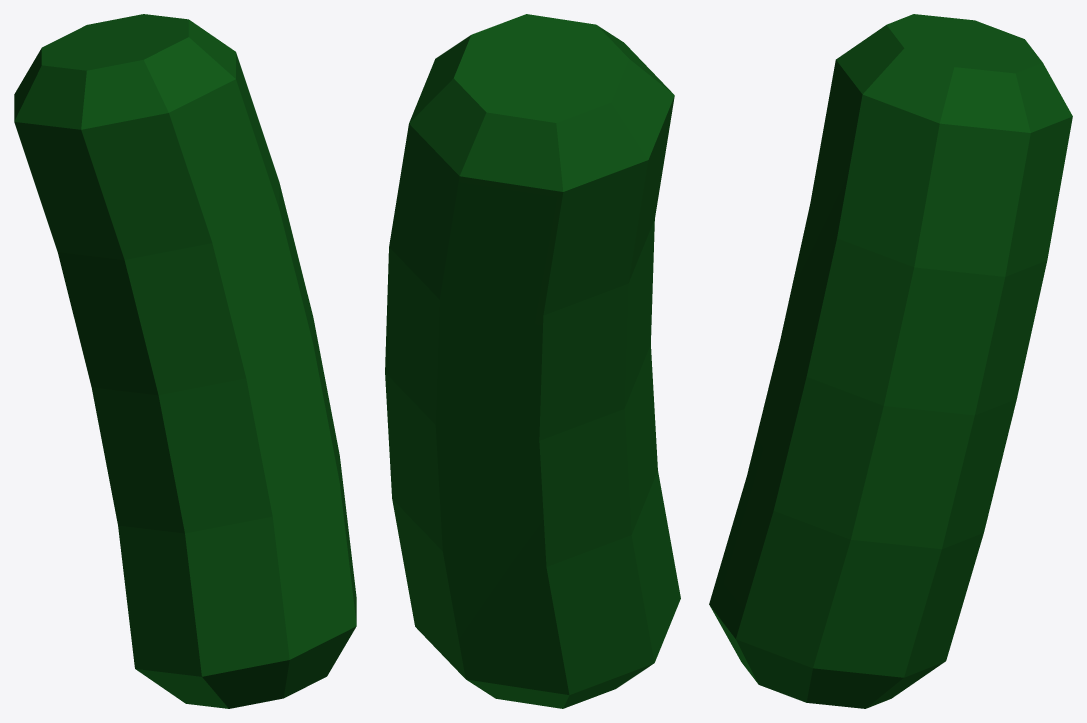
Rendered from Cucumber.fbx.
3 renders of one model, left to right at view 1: azimuth 30°, elevation 25°; view 2: azimuth 150°, elevation 25°; view 3: azimuth 270°, elevation 25°, orthographic. The views are drawn at different scales.
Visible parts, largest first — view 1: Cucumber; view 2: Cucumber; view 3: Cucumber.
Part boxes in pixels (bbox=[...]): Cucumber: bbox=[14, 14, 356, 708]; Cucumber: bbox=[385, 14, 680, 708]; Cucumber: bbox=[709, 14, 1072, 708].
Size of the model in its own units: 33.55 by 76.27 by 39.51.
